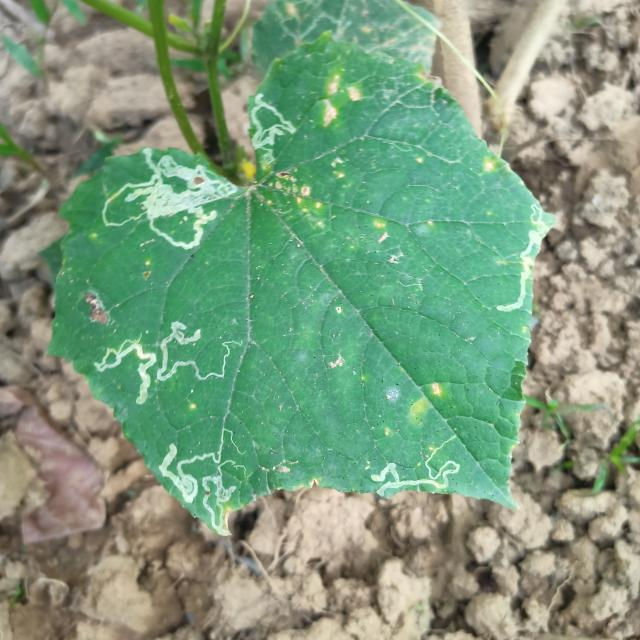disease_cucumber: (273, 170, 322, 222), (316, 73, 362, 128), (403, 378, 450, 425)
